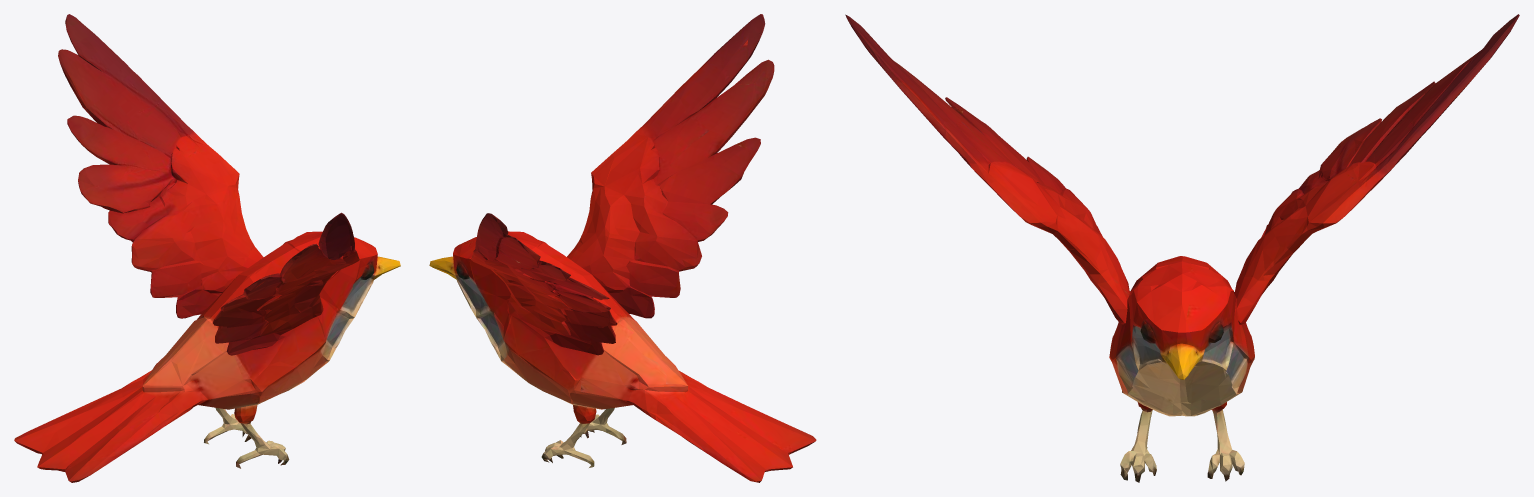
Rendered from crimson_swift.glb.
The picture shows the model from 3 angles, left to right: view 1: azimuth 30°, elevation 25°; view 2: azimuth 150°, elevation 25°; view 3: azimuth 270°, elevation 25°; orthographic projection. The views are drawn at different scales.
Visible parts, largest first — view 1: tripo_node_ae5af3ff-5d99-448a-a17e-e07b3e9044ba; view 2: tripo_node_ae5af3ff-5d99-448a-a17e-e07b3e9044ba; view 3: tripo_node_ae5af3ff-5d99-448a-a17e-e07b3e9044ba.
Part boxes in pixels (<box>): tripo_node_ae5af3ff-5d99-448a-a17e-e07b3e9044ba: <box>14,14,400,482</box>; tripo_node_ae5af3ff-5d99-448a-a17e-e07b3e9044ba: <box>429,14,816,482</box>; tripo_node_ae5af3ff-5d99-448a-a17e-e07b3e9044ba: <box>845,14,1519,482</box>.
Bounding box in the file's own units: 0.7695 × 0.7111 × 1.
1 material, 1 textured.
